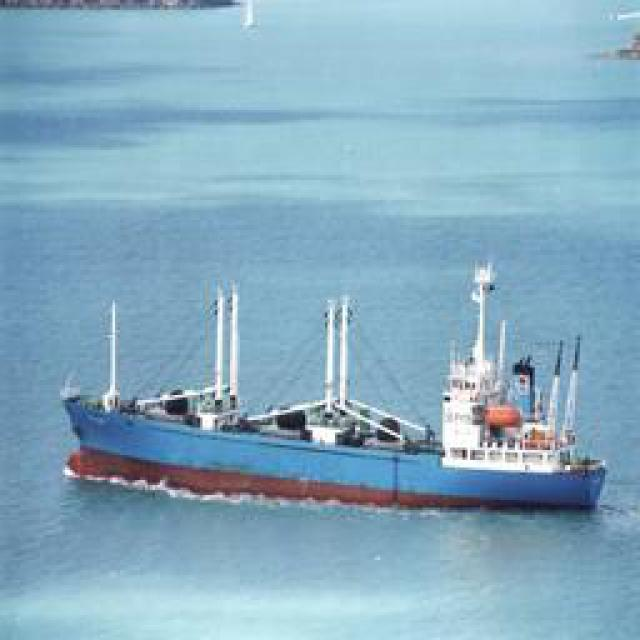Ship: (74, 274, 617, 519)
